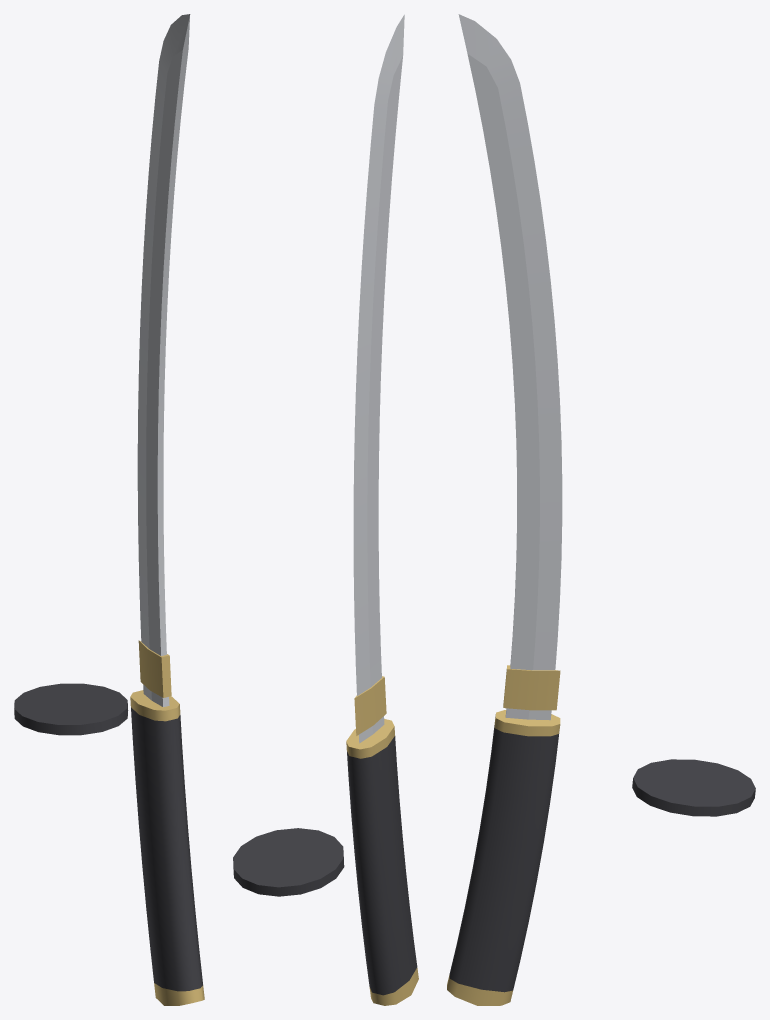
File: katana.glb
The picture shows the model from 3 angles, left to right: view 1: azimuth 30°, elevation 25°; view 2: azimuth 150°, elevation 25°; view 3: azimuth 270°, elevation 25°; orthographic projection. The views are drawn at different scales.
Visible parts, largest first — view 1: katana; view 2: katana; view 3: katana.
Boxes of the visible parts, <box> form: katana: <box>14,14,204,1005</box>; katana: <box>233,14,418,1005</box>; katana: <box>447,14,755,1005</box>.
Size of the model in its own units: 0.102 by 1 by 0.284.
